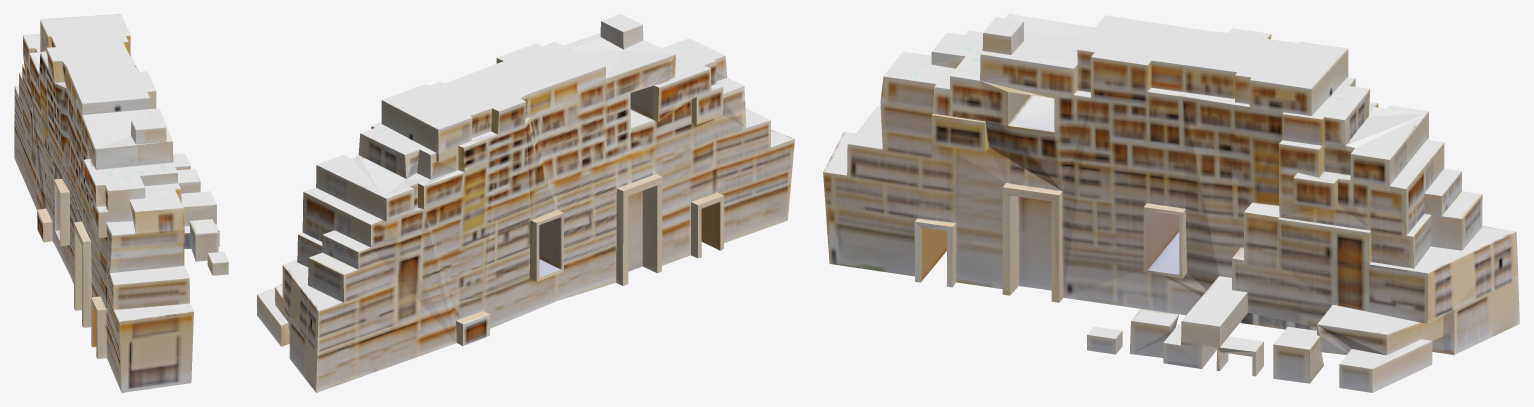
3 renders of one model, left to right at view 1: azimuth 30°, elevation 25°; view 2: azimuth 150°, elevation 25°; view 3: azimuth 270°, elevation 25°, orthographic. The views are drawn at different scales.
Visible parts, largest first — view 1: 504_001; view 2: 504_001; view 3: 504_001.
Part boxes in pixels (x1,y1,x2,y2): 504_001: (14,14,228,392); 504_001: (257,14,794,392); 504_001: (823,14,1519,392).
Size of the model in its own units: 97.13 by 68.15 by 169.
Materials: 1 (1 with a texture image).
